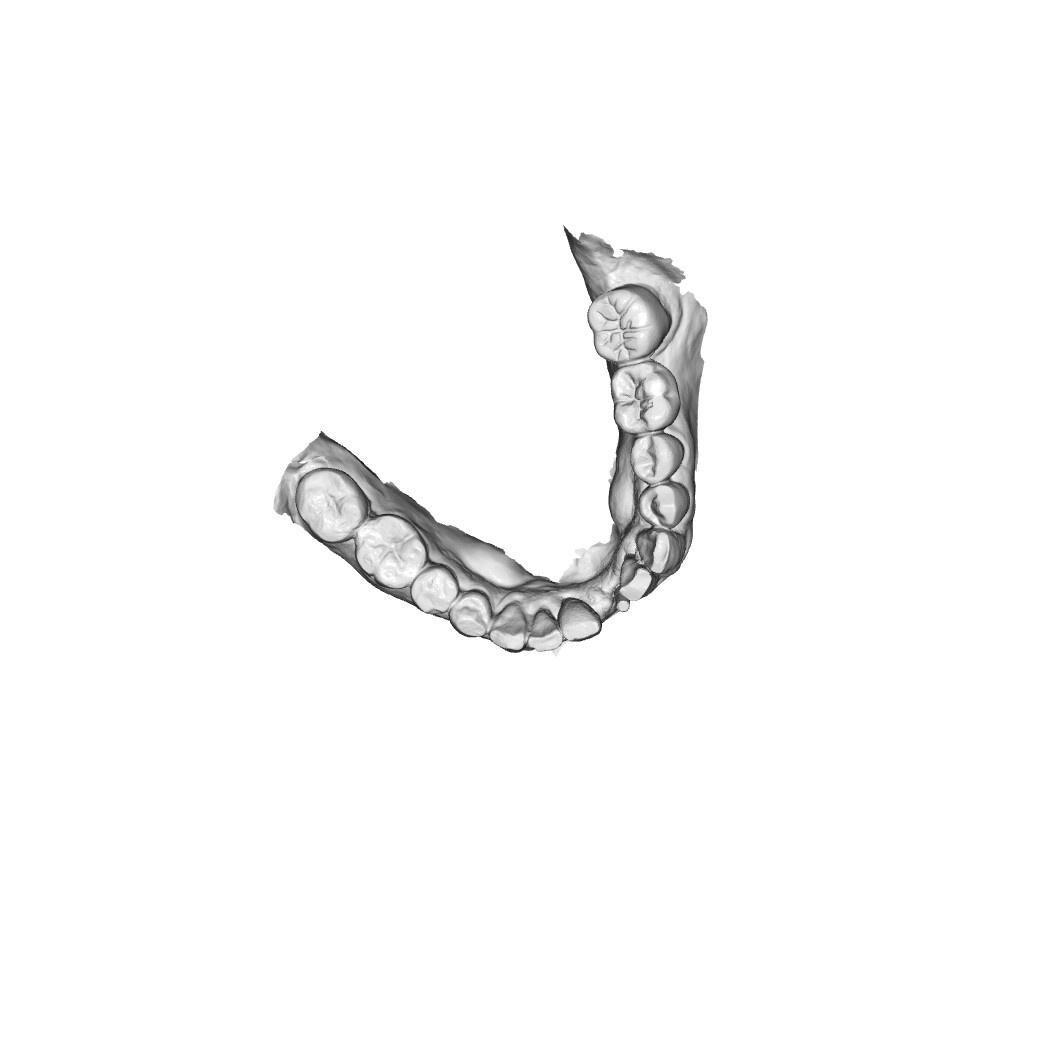abutment: (609, 593, 631, 615)
canine: (636, 525, 682, 572), (489, 600, 528, 655)
incisor: (620, 558, 657, 605), (560, 600, 598, 638), (527, 611, 563, 650)
molar: (589, 287, 669, 360), (296, 470, 369, 548), (610, 365, 682, 433), (355, 519, 425, 587)
premolar: (412, 564, 458, 614), (632, 434, 679, 482), (640, 483, 686, 527), (455, 596, 489, 636)
